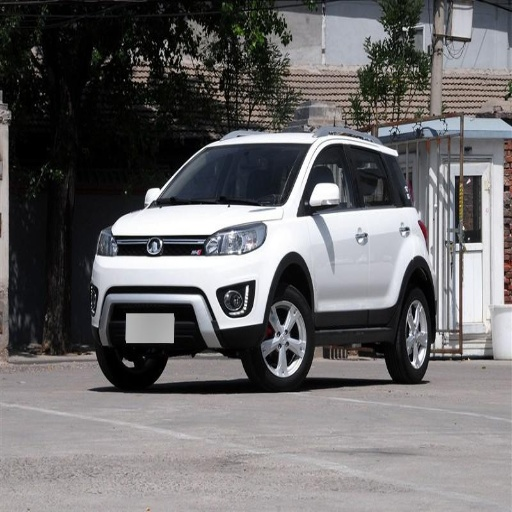front_bumper: (95, 233, 278, 352)
front_glass: (154, 147, 308, 206)
front_left_door: (300, 141, 368, 326)
trunk: (406, 210, 444, 289)
